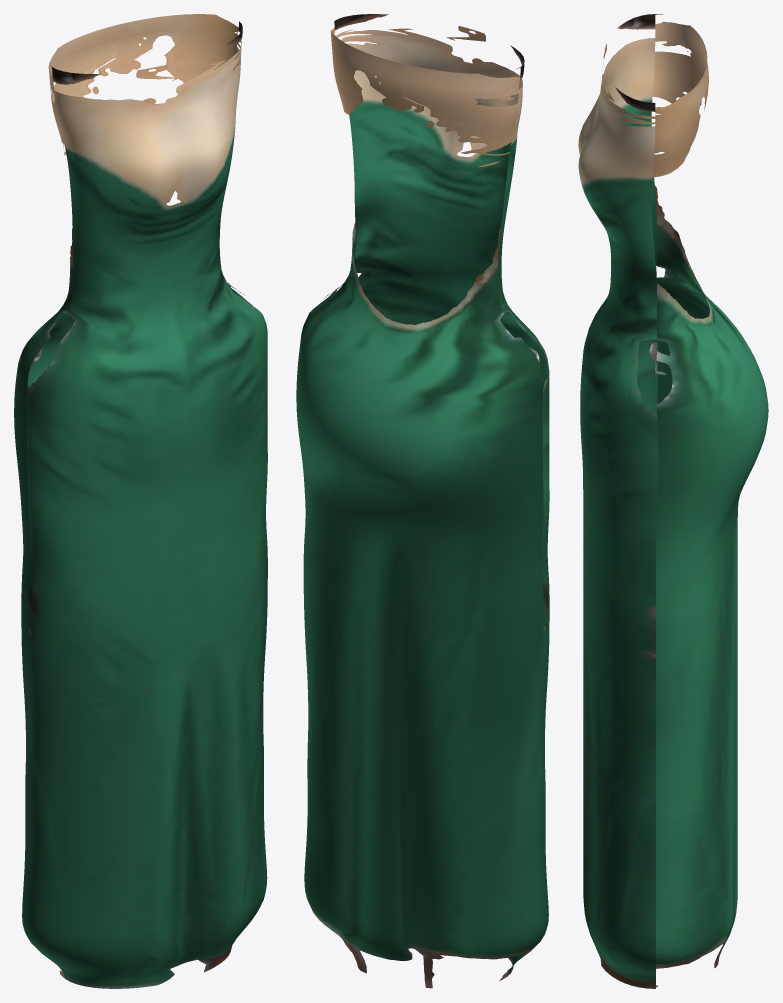
Rendered from prod-ae-emerald-satin-midi.glb.
3 views of the same model, side by side, from view 1: azimuth 30°, elevation 25°; view 2: azimuth 150°, elevation 25°; view 3: azimuth 270°, elevation 25° (orthographic). The views are drawn at different scales.
Visible parts, largest first — view 1: prod-ae-emerald-satin-midi; view 2: prod-ae-emerald-satin-midi; view 3: prod-ae-emerald-satin-midi.
Part boxes in pixels (x1=…): prod-ae-emerald-satin-midi: x1=14, y1=14, x2=267, y2=988; prod-ae-emerald-satin-midi: x1=296, y1=14, x2=549, y2=988; prod-ae-emerald-satin-midi: x1=578, y1=14, x2=768, y2=988.
Bounding box in the file's own units: 0.2918 × 1.09 × 0.2108.
1 material, 1 textured.
